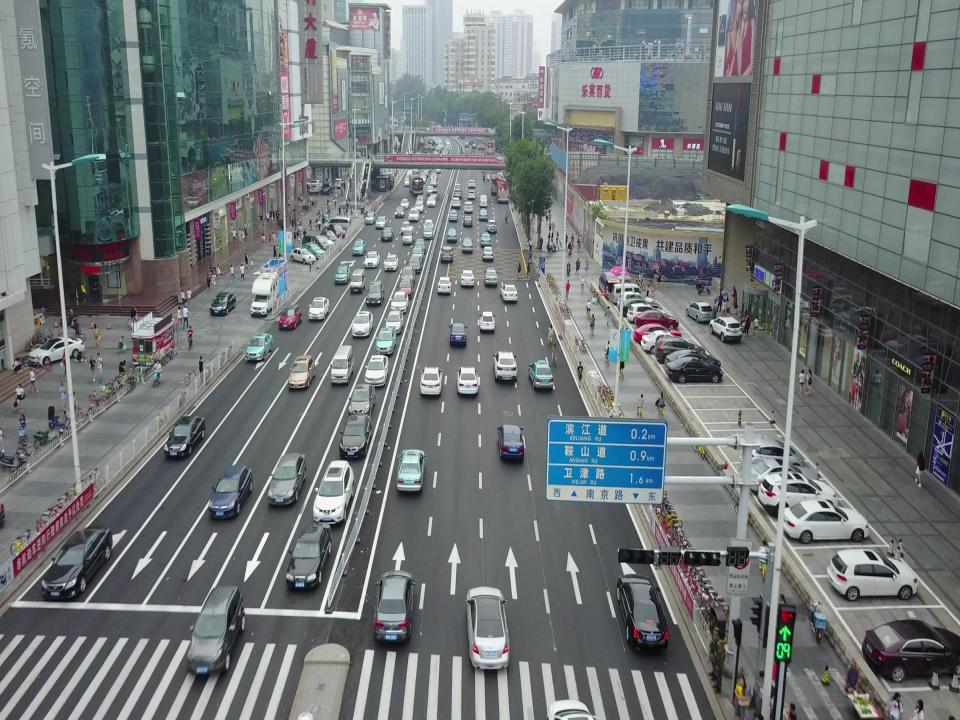bus: (494, 180, 510, 205), (408, 172, 424, 196), (491, 173, 502, 196)
car: (859, 615, 960, 685), (39, 523, 114, 602), (185, 584, 246, 676), (825, 549, 920, 602), (612, 571, 672, 654), (779, 496, 871, 546), (462, 585, 512, 672), (284, 518, 334, 596), (759, 472, 839, 519), (375, 569, 416, 647), (310, 460, 356, 528), (206, 462, 254, 525), (746, 455, 822, 494), (266, 450, 310, 509), (741, 436, 806, 474), (164, 414, 206, 462), (27, 336, 86, 369), (666, 357, 724, 388), (393, 447, 428, 494), (338, 410, 372, 458), (665, 350, 721, 374), (640, 328, 690, 353), (494, 423, 526, 462), (655, 337, 706, 361), (243, 328, 275, 364), (707, 314, 744, 345), (287, 352, 316, 391), (347, 380, 376, 419), (633, 324, 683, 345), (491, 349, 519, 384), (364, 354, 390, 389), (635, 310, 680, 330), (528, 359, 554, 392), (419, 363, 443, 398), (454, 366, 480, 398), (209, 291, 237, 320), (686, 298, 716, 325), (626, 303, 664, 323), (278, 302, 304, 330), (350, 308, 374, 338), (620, 299, 662, 316), (616, 292, 654, 310), (375, 326, 397, 357), (307, 295, 330, 322), (366, 276, 385, 308), (448, 318, 468, 348), (383, 309, 405, 335), (288, 245, 316, 265), (476, 309, 498, 334), (300, 241, 326, 261), (390, 290, 410, 312), (333, 261, 351, 285), (310, 234, 334, 252), (500, 282, 518, 304), (438, 243, 456, 265), (383, 251, 399, 273), (459, 268, 476, 288), (364, 249, 381, 269), (436, 274, 452, 295), (483, 266, 499, 287), (398, 265, 416, 283), (319, 229, 338, 246), (397, 279, 413, 299), (327, 223, 346, 239), (352, 237, 366, 258), (408, 255, 422, 273), (380, 225, 394, 243), (461, 235, 473, 255), (362, 210, 378, 225), (481, 246, 495, 263), (414, 239, 426, 256), (422, 224, 434, 241), (408, 206, 420, 223), (305, 178, 323, 189), (321, 182, 335, 196), (375, 214, 388, 229), (411, 247, 423, 263), (480, 231, 492, 247), (486, 219, 498, 234), (400, 220, 412, 235), (446, 227, 458, 241), (462, 214, 474, 228), (462, 201, 474, 214), (425, 195, 437, 208), (448, 208, 459, 222), (478, 207, 488, 222), (414, 201, 425, 214), (395, 205, 405, 219), (334, 177, 346, 188), (450, 197, 462, 207), (400, 197, 409, 210), (430, 189, 440, 200), (425, 185, 435, 196), (467, 190, 477, 200), (467, 179, 476, 188), (454, 188, 463, 197), (454, 184, 462, 192)
van: (327, 343, 356, 388), (610, 284, 646, 305), (597, 270, 621, 296), (302, 231, 330, 253), (349, 267, 367, 296), (324, 216, 352, 232), (402, 225, 415, 246), (423, 218, 434, 233), (478, 194, 488, 209)
